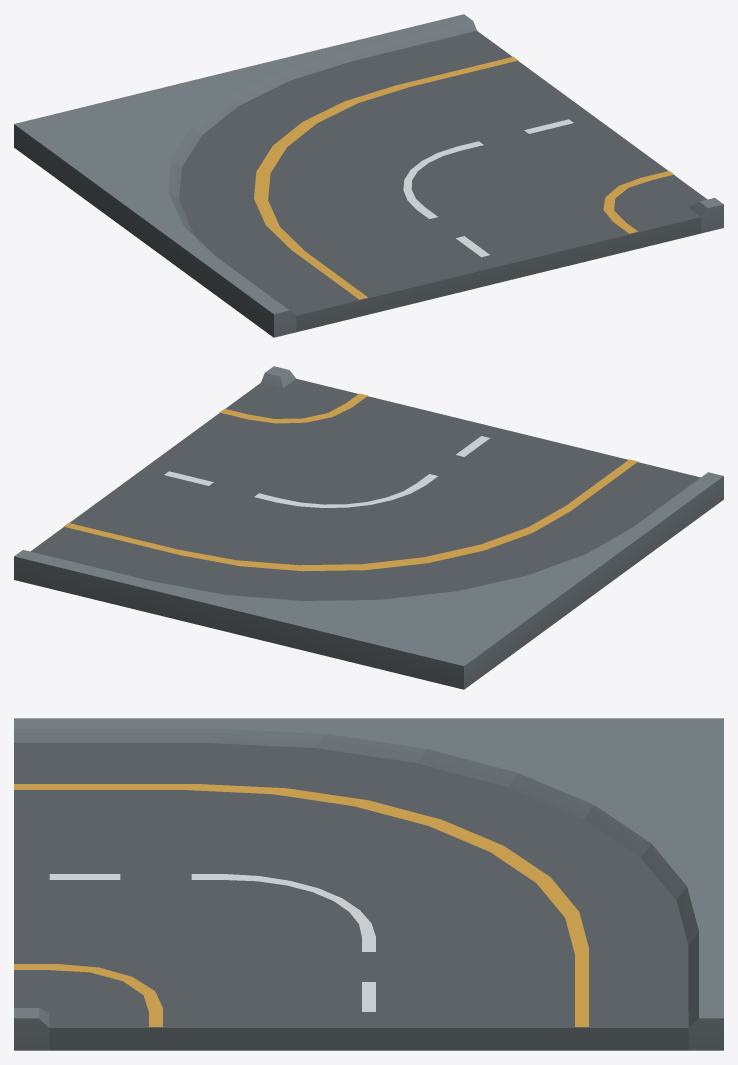
The model's file is road_corner_curved.obj.
3 renders of one model, top to bottom at view 1: azimuth 30°, elevation 25°; view 2: azimuth 150°, elevation 25°; view 3: azimuth 270°, elevation 25°, orthographic. The views are drawn at different scales.
Bounding box in the file's own units: 2 × 0.1 × 2.
1 material, 1 textured.
